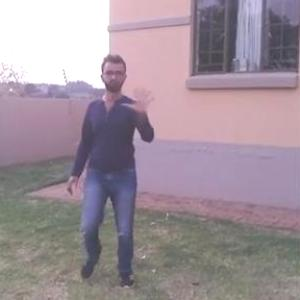follow_hand: (123, 81, 159, 115)
